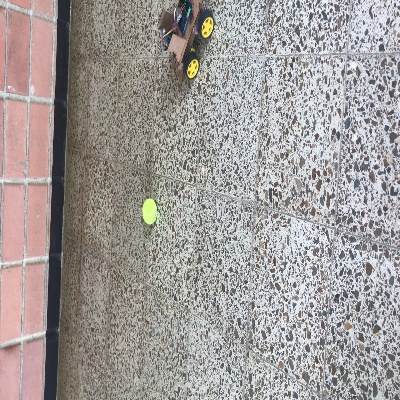Ball: (142, 199, 157, 224)
Robot: (157, 0, 214, 79)
